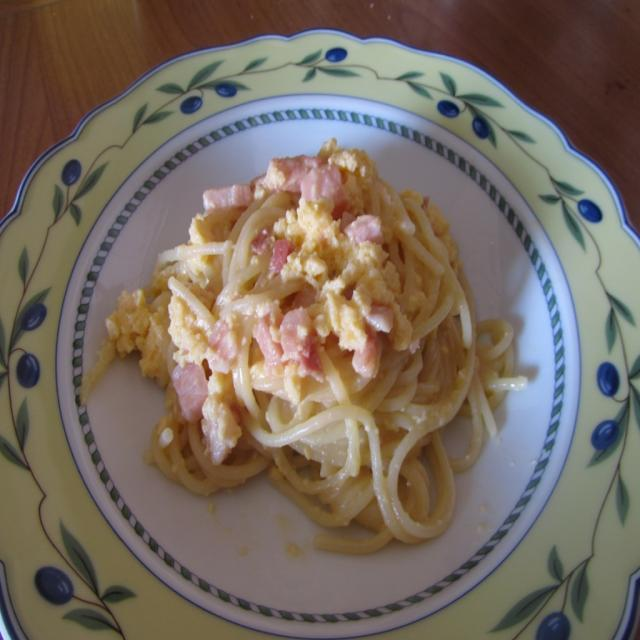Pasta with carbonara sauce: (62, 102, 586, 560)
